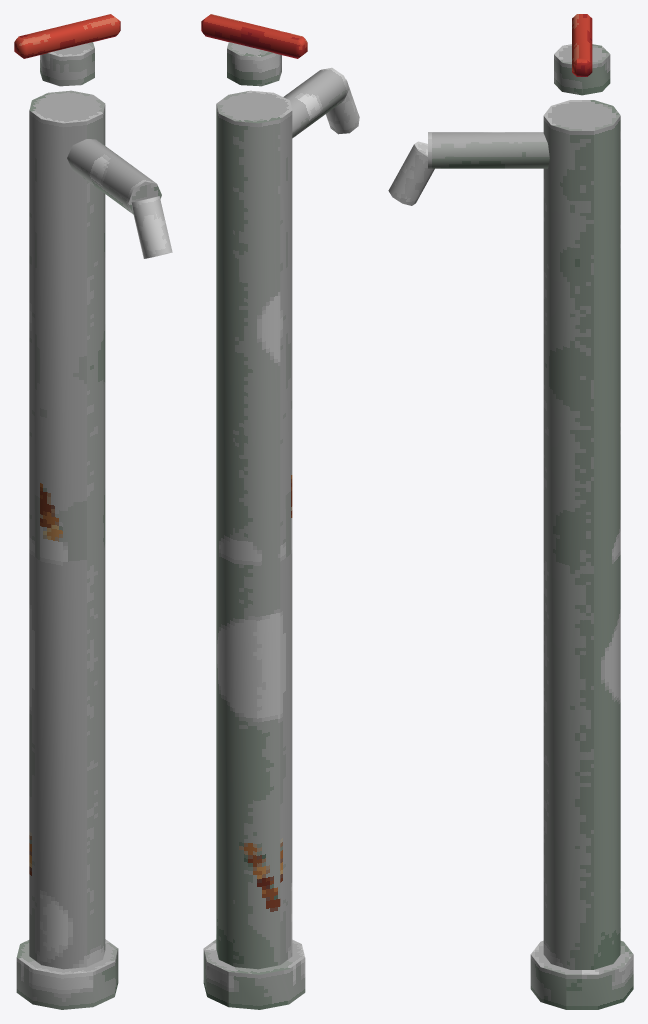
Rendered from standpipe_tap.glb.
3 renders of one model, left to right at view 1: azimuth 30°, elevation 25°; view 2: azimuth 150°, elevation 25°; view 3: azimuth 270°, elevation 25°, orthographic.
Visible parts, largest first — view 1: mesh; view 2: mesh; view 3: mesh.
Boxes of the visible parts, x1,y1,x2,y2 form: mesh: [14, 14, 172, 1009]; mesh: [201, 14, 359, 1009]; mesh: [388, 14, 633, 1009].
Bounding box in the file's own units: 0.09 × 0.818 × 0.1907.
Materials: 1 (1 with a texture image).
